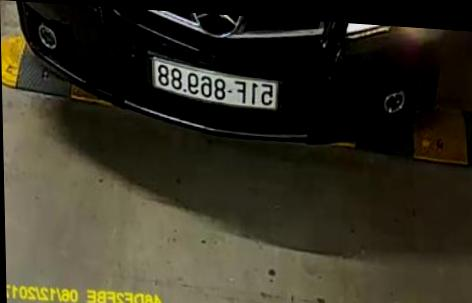License_Plate: (145, 51, 283, 117)
